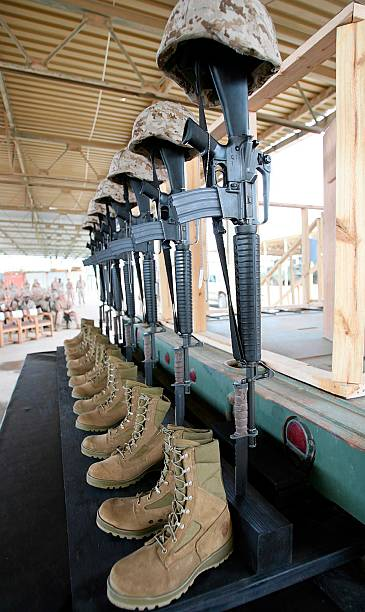rifle: (174, 60, 291, 497), (137, 138, 198, 430)
